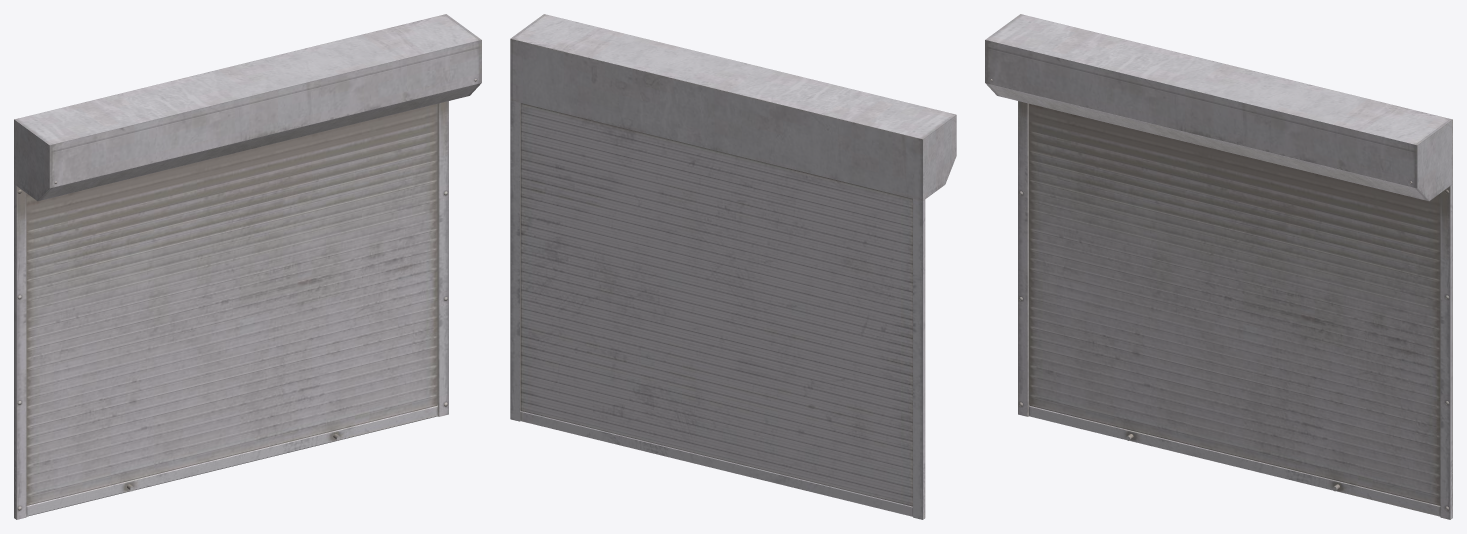
File: real-shutter.glb
3 renders of one model, left to right at view 1: azimuth 30°, elevation 25°; view 2: azimuth 150°, elevation 25°; view 3: azimuth 330°, elevation 25°, orthographic. The views are drawn at different scales.
Visible parts, largest first — view 1: rollershutter_window_01; view 2: rollershutter_window_01; view 3: rollershutter_window_01.
Boxes of the visible parts, x1,y1,x2,y2 form: rollershutter_window_01: (14,14,481,519); rollershutter_window_01: (510,14,956,519); rollershutter_window_01: (985,14,1452,519).
Size of the model in its own units: 2.1 by 1.85 by 0.3001.
Materials: 1 (1 with a texture image).
